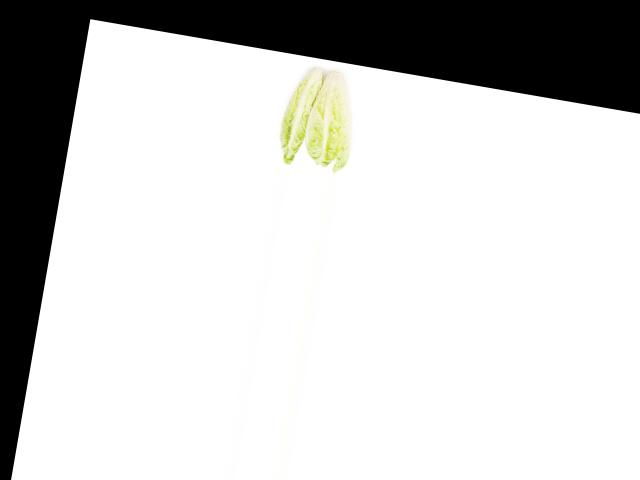lettuce: (264, 55, 327, 169)
